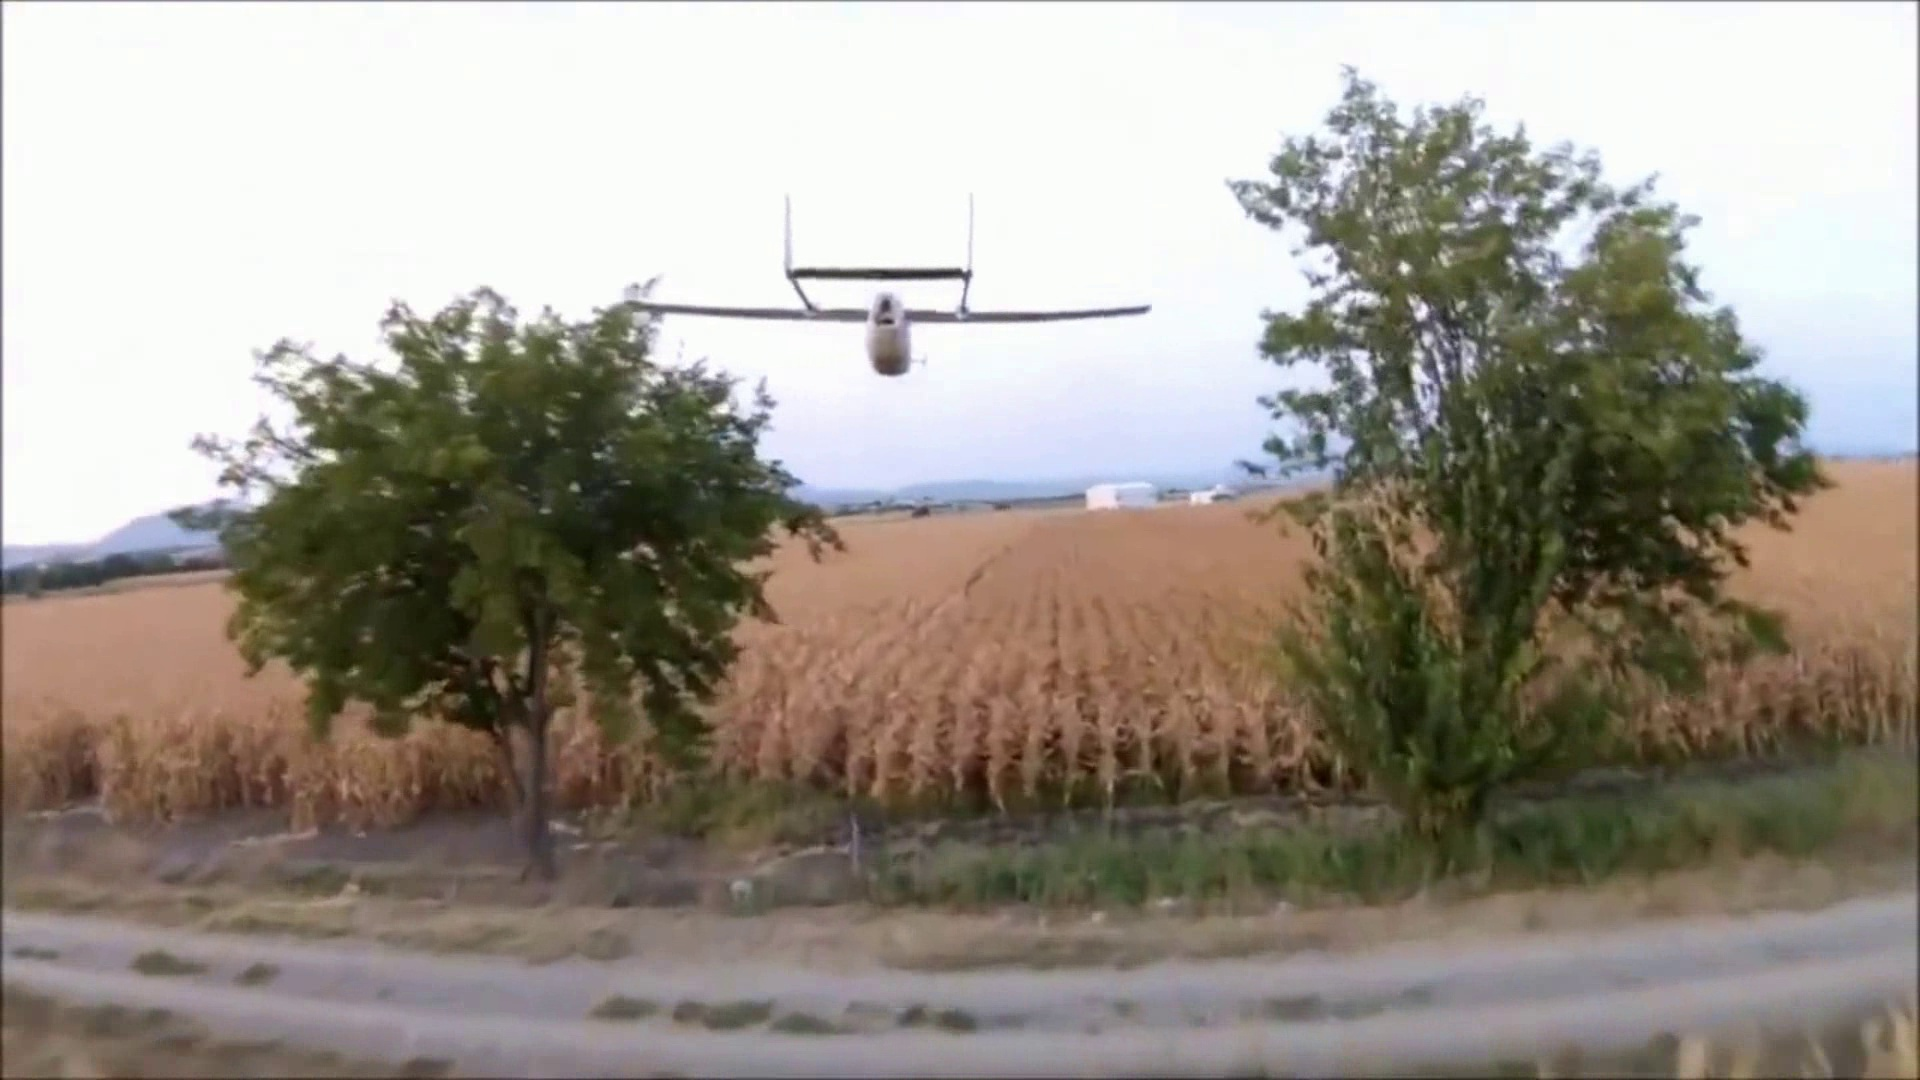airplane: (621, 193, 1151, 367)
